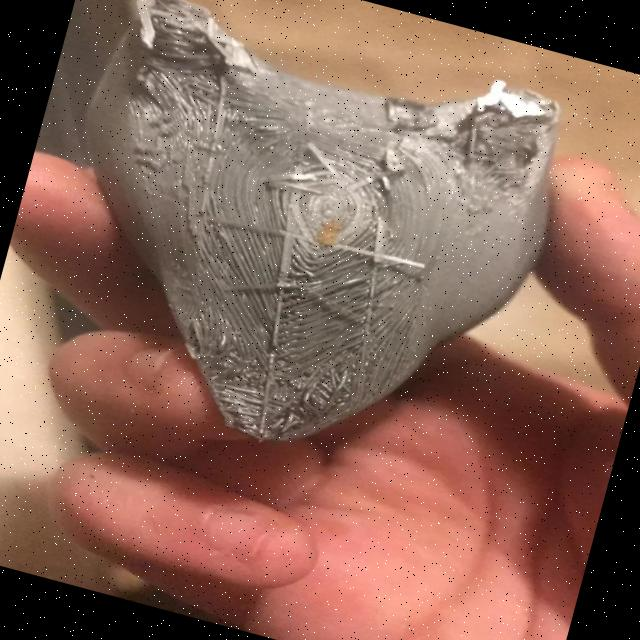cracks: (154, 300, 370, 462), (367, 60, 554, 211), (100, 0, 256, 178)
